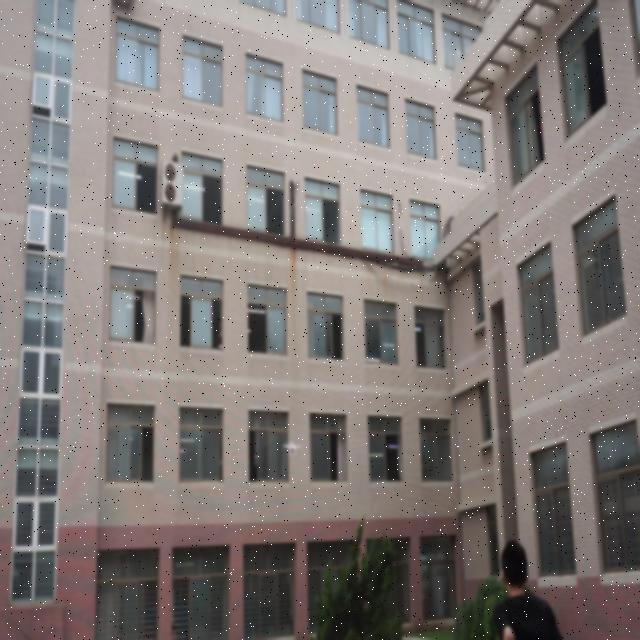UAV: (283, 442, 300, 455)
